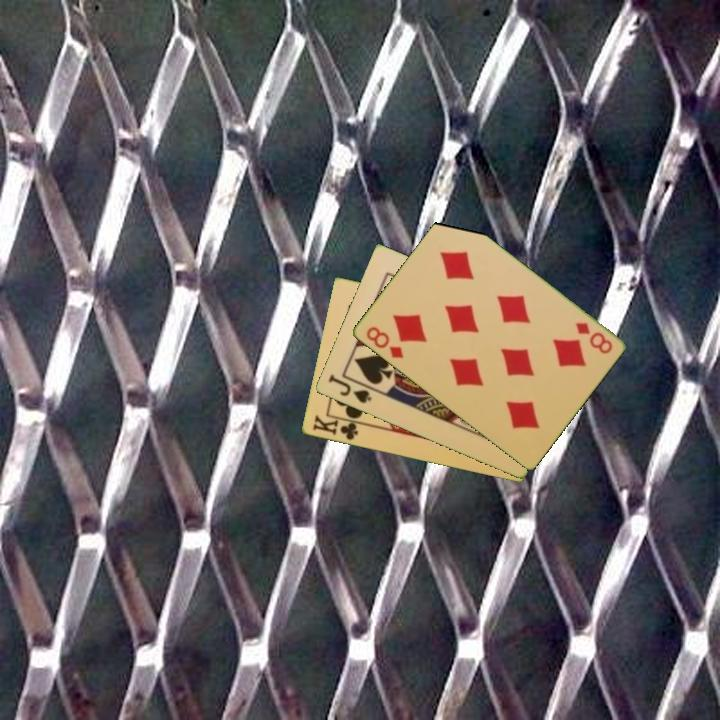8d: (362, 323, 406, 361), (571, 319, 615, 357)
Js: (324, 371, 374, 406)
Kc: (309, 412, 365, 443)
